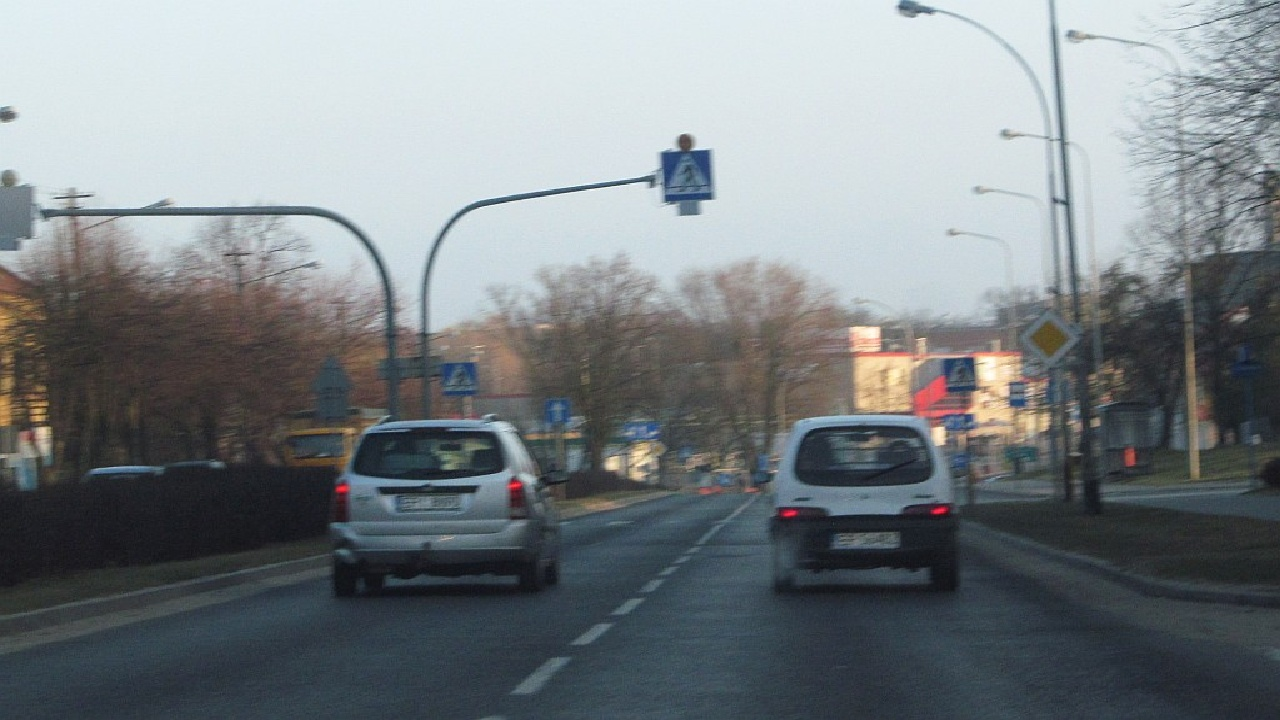D1: (1020, 308, 1082, 369)
